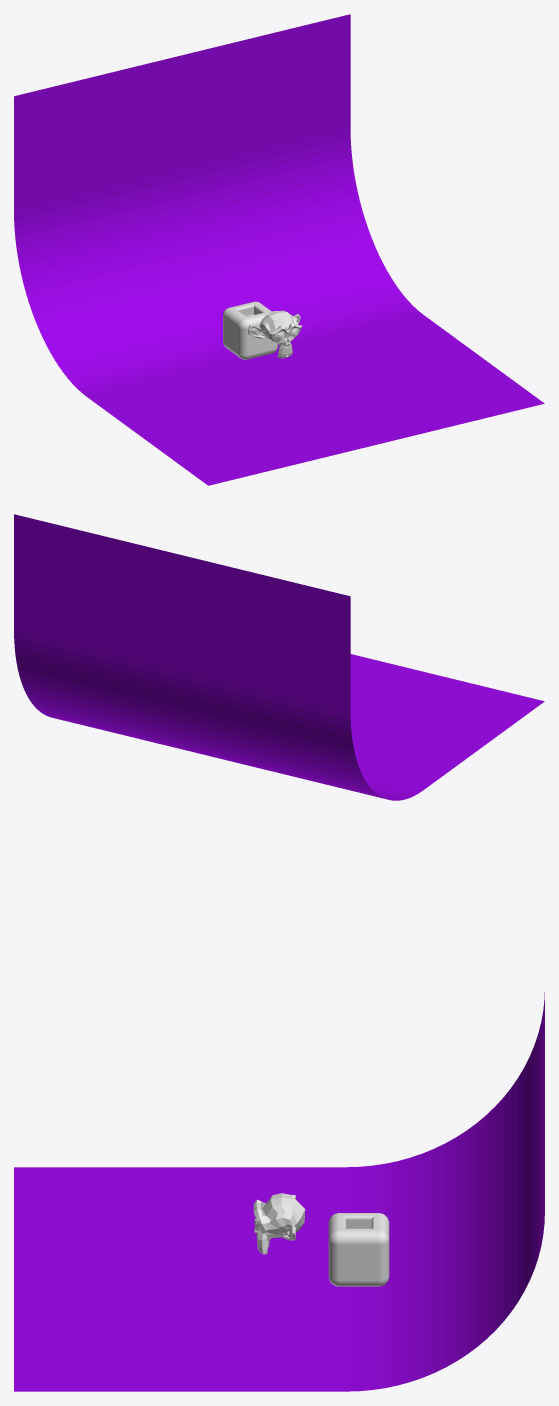
The model's file is textures.fbx.
3 renders of one model, top to bottom at view 1: azimuth 30°, elevation 25°; view 2: azimuth 150°, elevation 25°; view 3: azimuth 270°, elevation 25°, orthographic. The views are drawn at different scales.
Visible parts, largest first — view 1: Plane.001, Cube.001, Suzanne; view 2: Plane.001; view 3: Plane.001, Cube.001, Suzanne.
Boxes of the visible parts, box(x1,y1,x2,y2) form: Plane.001: box(14, 14, 544, 485); Cube.001: box(223, 301, 277, 359); Suzanne: box(247, 310, 302, 358); Plane.001: box(14, 514, 544, 800); Plane.001: box(14, 992, 544, 1391); Cube.001: box(328, 1213, 389, 1286); Suzanne: box(253, 1193, 305, 1254).
Size of the model in its own units: 1751 by 1229 by 1751.
